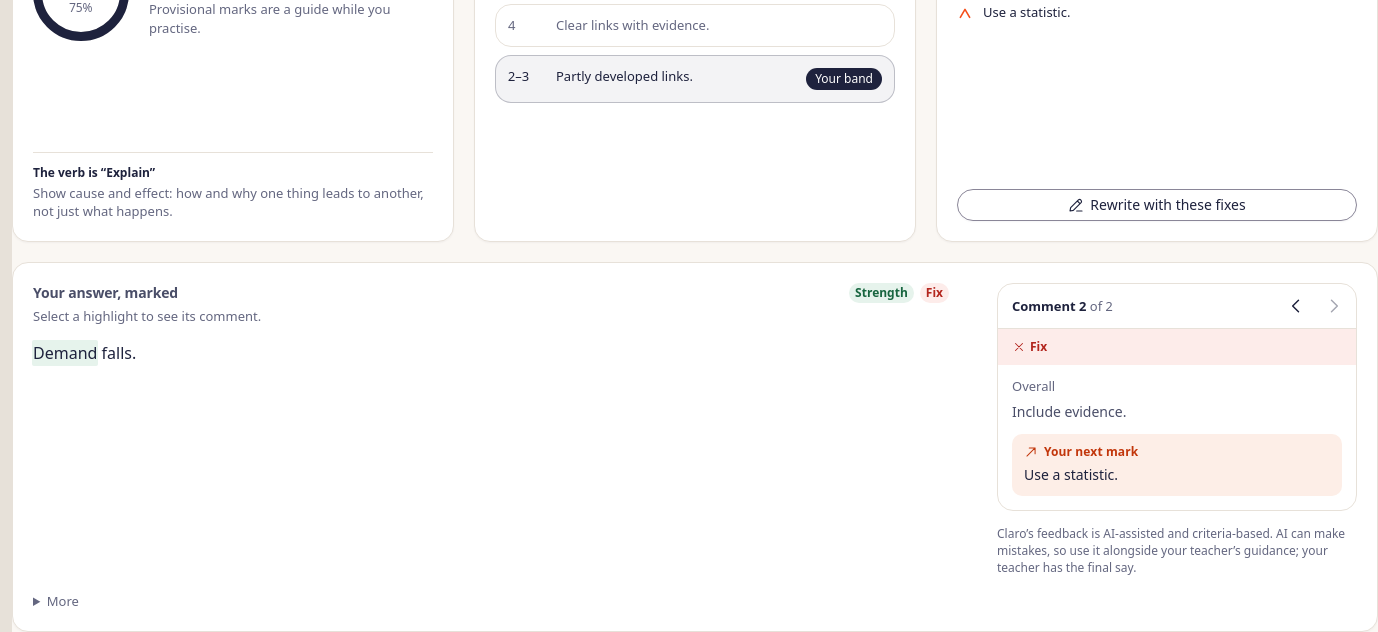
Scenario: keeps explanations and disputes inside the final card's More disclosure
(page scrolled)
expect the text "More" shows "Your answer, marked": met, box [33, 283, 178, 302]
Click the heading "More" at (63, 601), box [47, 592, 79, 610]
(page scrolled)
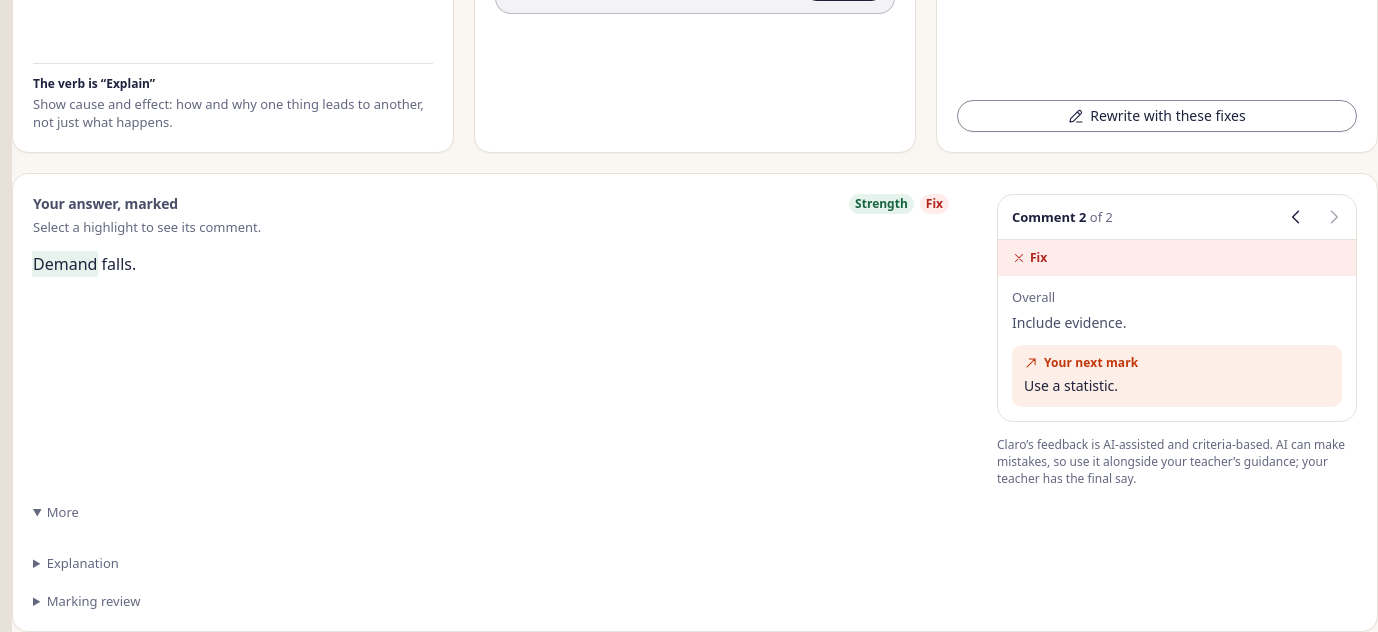
Click the heading "Marking review" at (94, 601), box [47, 592, 140, 610]
(page scrolled)
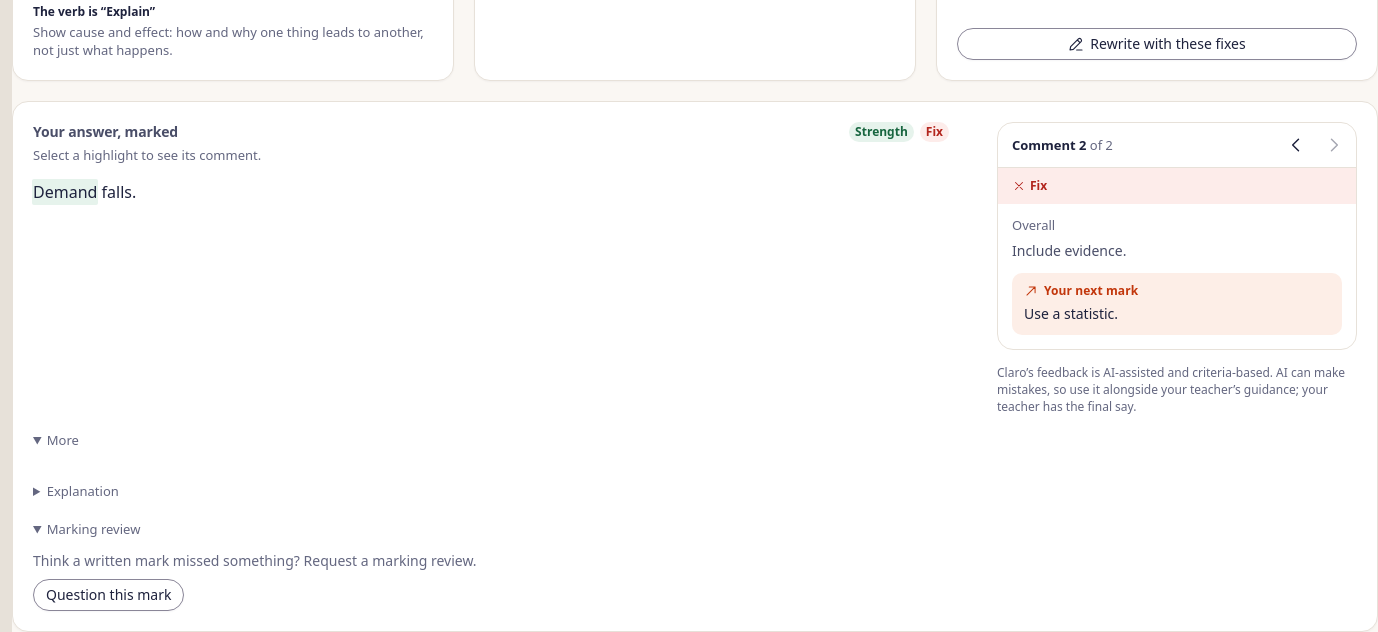
expect the button "Question this mark" is shown: met, box [33, 579, 184, 611]
